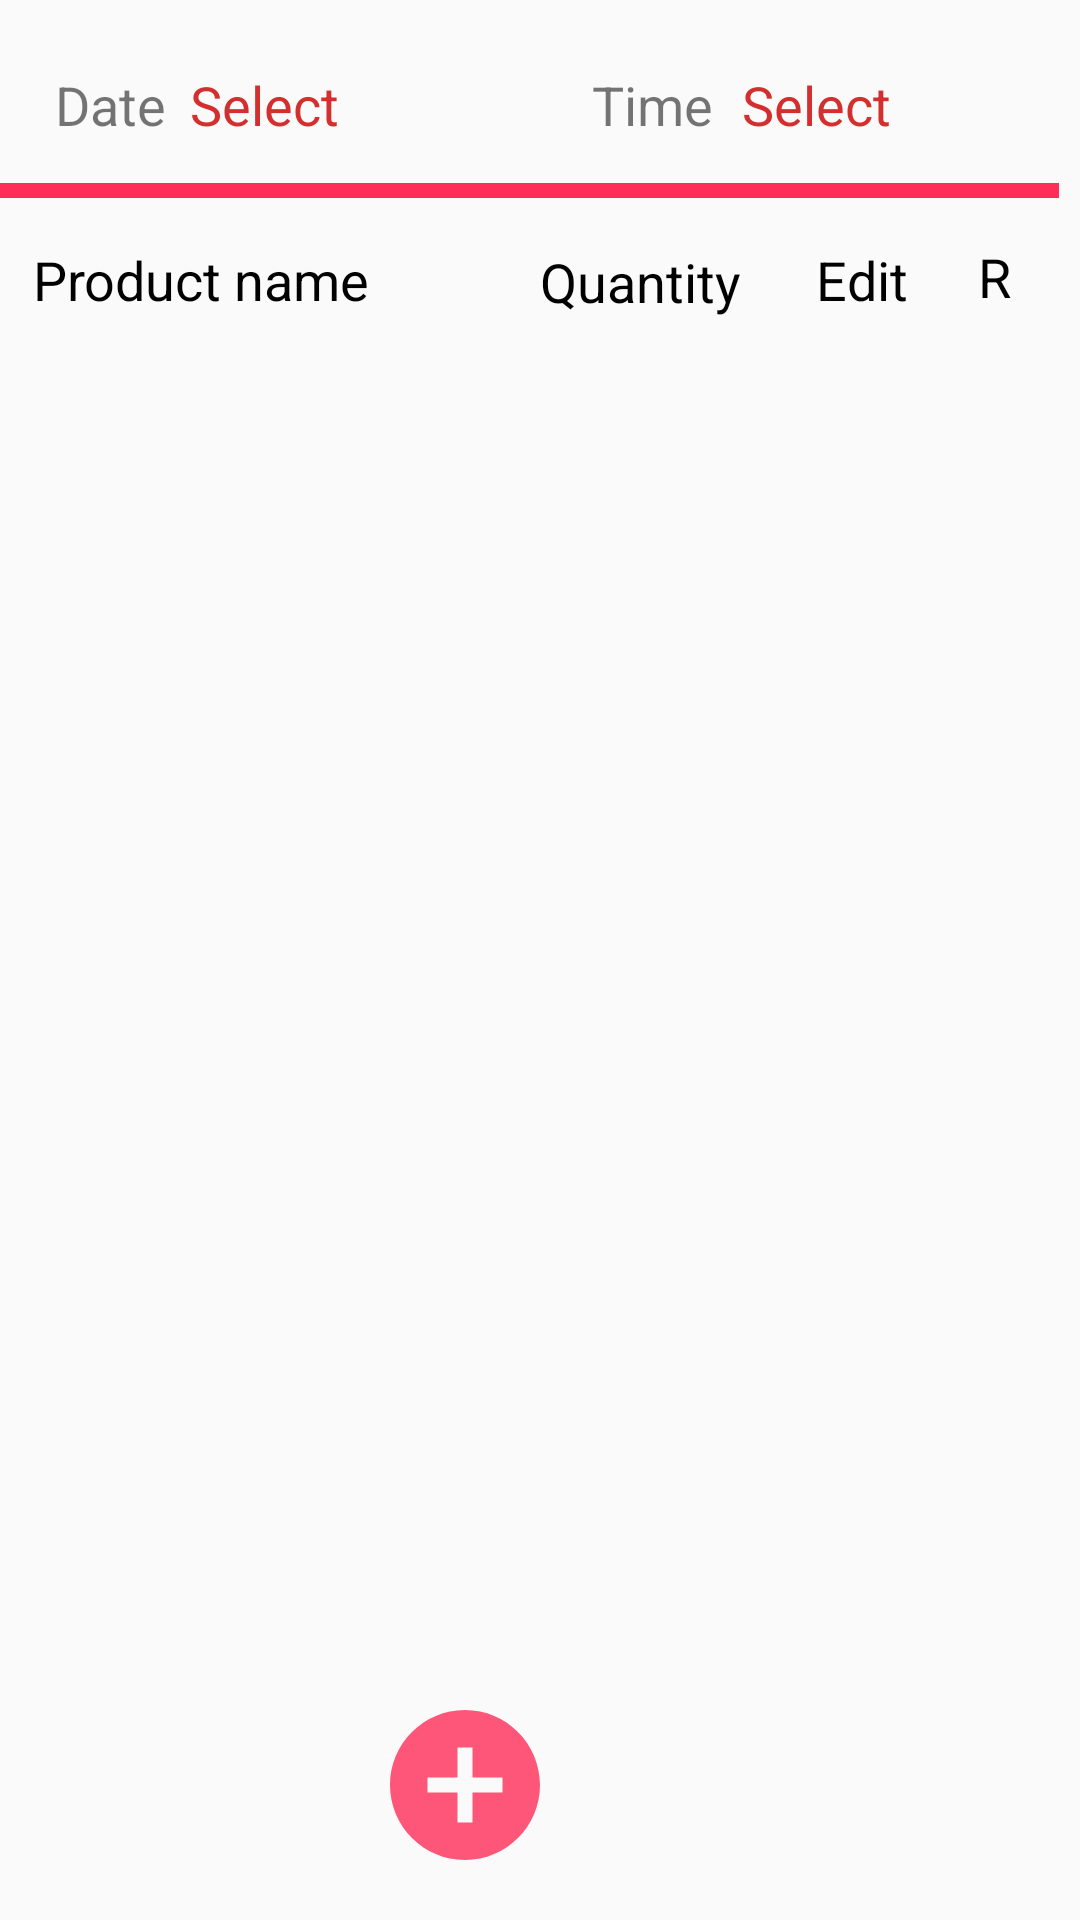

Screen size 1080 × 1920. Icon name, then its box in pixels as (x1, y1, x2, y2):
additem: (390, 1710, 540, 1860)
